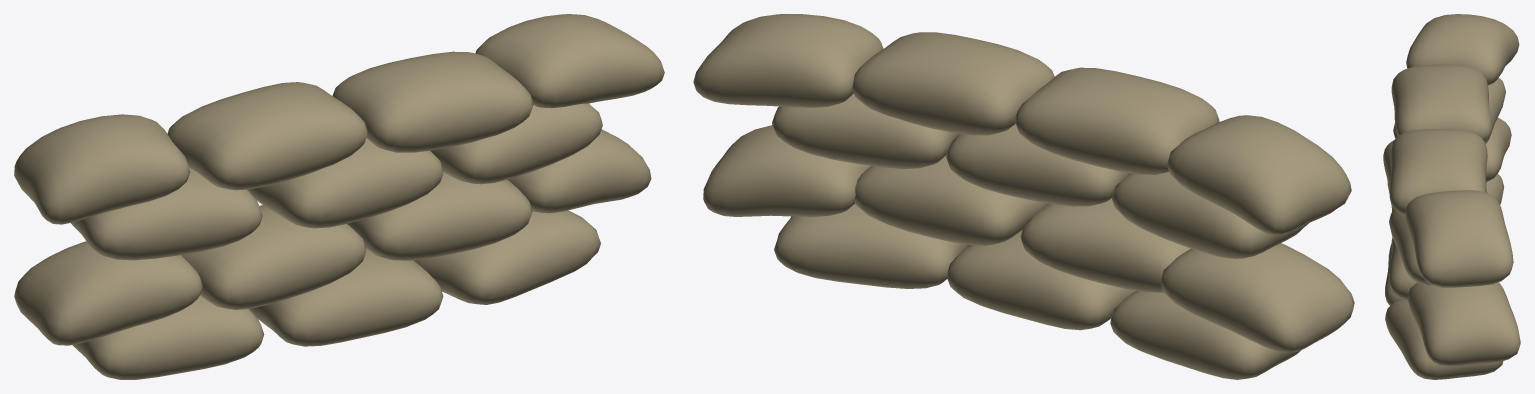
File: SM_SackTrench.fbx
3 renders of one model, left to right at view 1: azimuth 30°, elevation 25°; view 2: azimuth 150°, elevation 25°; view 3: azimuth 270°, elevation 25°, orthographic. The views are drawn at different scales.
Visible parts, largest first — view 1: SM_SackTrench; view 2: SM_SackTrench; view 3: SM_SackTrench.
Boxes of the visible parts, bbox=[...] form: SM_SackTrench: bbox=[14, 14, 664, 379]; SM_SackTrench: bbox=[693, 14, 1354, 379]; SM_SackTrench: bbox=[1383, 14, 1520, 379].
Size of the model in its own units: 3.16 by 1.19 by 0.7751.
